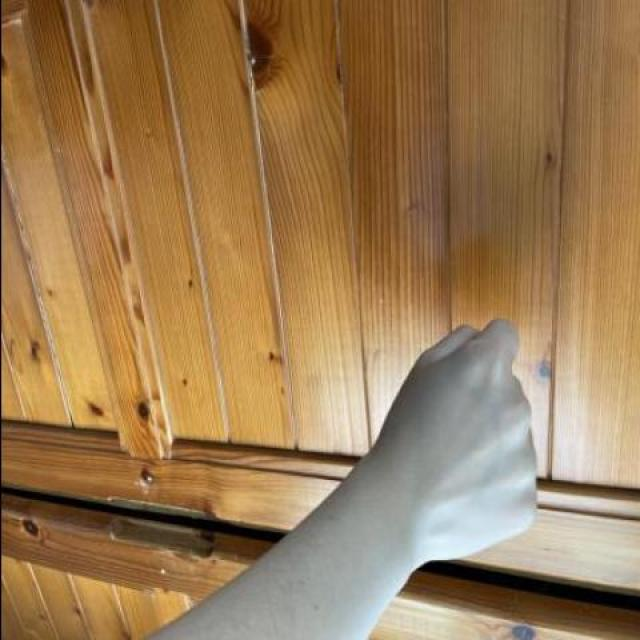Closed Hand: (368, 302, 549, 574)
